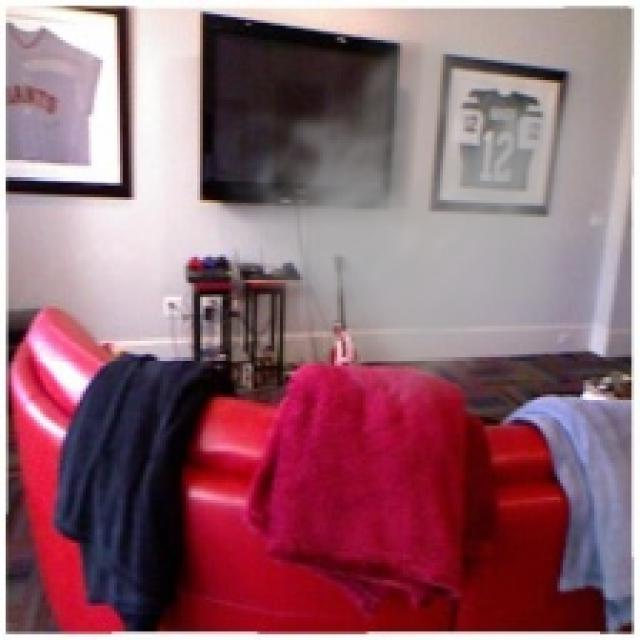smoke: (206, 6, 591, 423)
